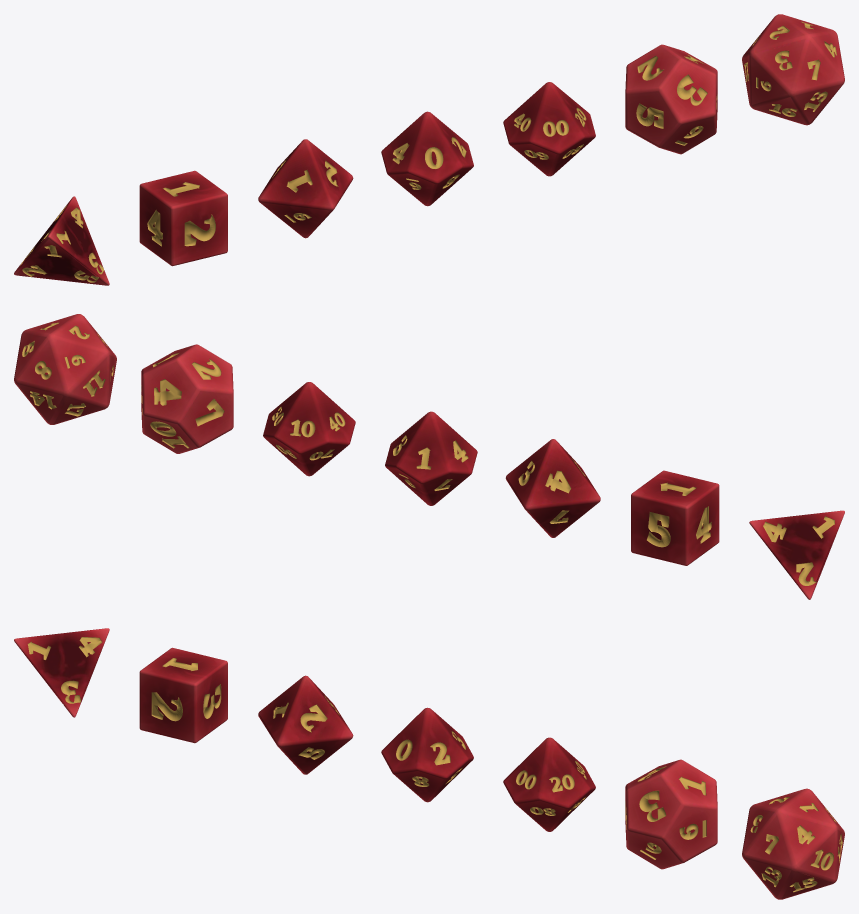
Rendered from crimson.glb.
3 views of the same model, one above another, from view 1: azimuth 30°, elevation 25°; view 2: azimuth 150°, elevation 25°; view 3: azimuth 330°, elevation 25° (orthographic).
Parts seen in each view (by area): view 1: d20, d12, d6, d100, d10, d8, d4; view 2: d20, d12, d6, d100, d10, d8, d4; view 3: d20, d12, d6, d8, d100, d10, d4.
Boxes of the visible parts, bbox=[...] form: d20: bbox=[742, 14, 844, 125]; d12: bbox=[625, 44, 717, 154]; d6: bbox=[139, 170, 227, 266]; d100: bbox=[503, 82, 595, 176]; d10: bbox=[381, 111, 473, 206]; d8: bbox=[258, 139, 353, 238]; d4: bbox=[14, 196, 109, 285]; d20: bbox=[14, 314, 116, 424]; d12: bbox=[141, 344, 233, 453]; d6: bbox=[631, 470, 719, 565]; d100: bbox=[263, 382, 355, 476]; d10: bbox=[385, 411, 477, 505]; d8: bbox=[505, 439, 600, 537]; d4: bbox=[749, 510, 844, 599]; d20: bbox=[742, 788, 844, 899]; d12: bbox=[625, 759, 717, 869]; d6: bbox=[139, 647, 227, 743]; d8: bbox=[258, 675, 353, 774]; d100: bbox=[503, 737, 595, 831]; d10: bbox=[381, 707, 473, 802]; d4: bbox=[14, 628, 109, 717].
Size of the model in its own units: 21.14 by 2.47 by 2.47.
Materials: 14 (7 with a texture image).
